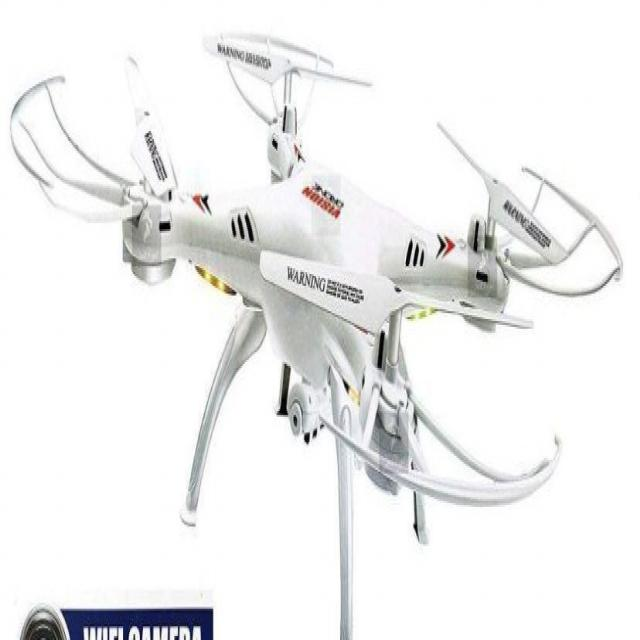drone: (13, 65, 632, 609)
